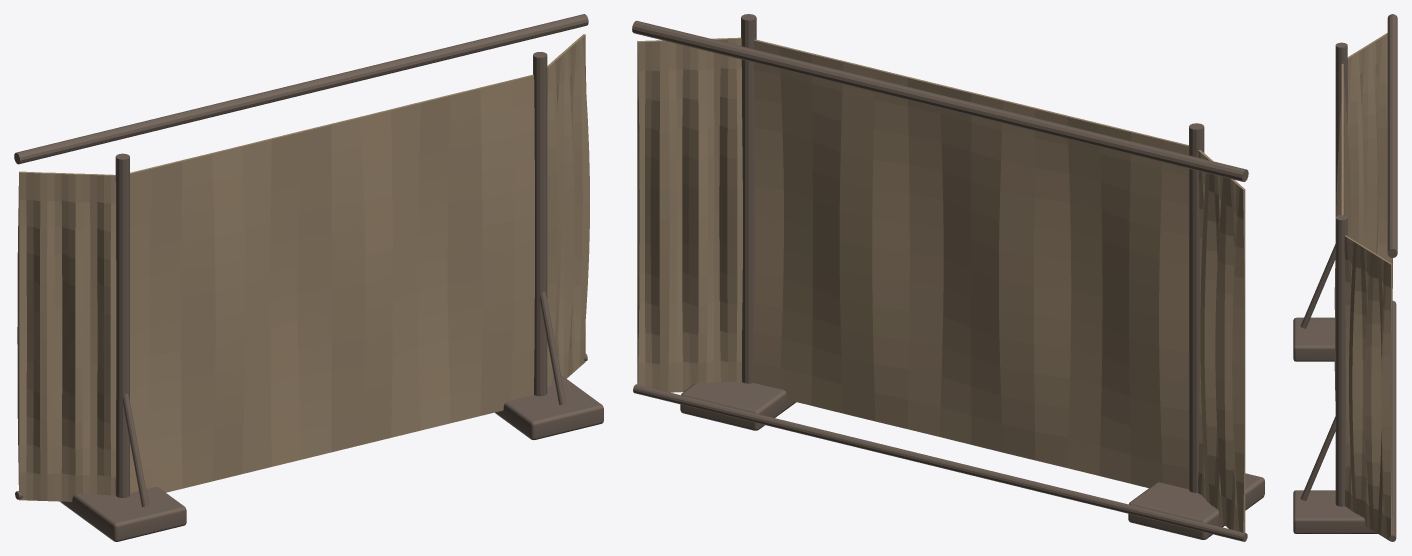
File: PopupShade_Deployed.fbx
3 views of the same model, side by side, from view 1: azimuth 30°, elevation 25°; view 2: azimuth 150°, elevation 25°; view 3: azimuth 270°, elevation 25° (orthographic). The views are drawn at different scales.
Parts seen in each view (by area): view 1: CentreCanvas, LeftReturnCanvas, RightReturnCanvas, TopSpreader, TelescopingUpright, TelescopingUpright.001, WeightedFoot, WeightedFoot.001, ShortFrameBrace, ShortFrameBrace.001; view 2: CentreCanvas, RightReturnCanvas, LeftReturnCanvas, TopSpreader, BottomHem, TelescopingUpright.001, TelescopingUpright, WeightedFoot, WeightedFoot.001; view 3: RightReturnCanvas, LeftReturnCanvas, TelescopingUpright.001, TopSpreader, WeightedFoot.001, WeightedFoot, CentreCanvas, BottomHem, TelescopingUpright, ShortFrameBrace.001, ShortFrameBrace.
Part boxes in pixels (left/top/right/bottom): CentreCanvas: left=130, top=74, right=534, bottom=492; LeftReturnCanvas: left=17, top=171, right=116, bottom=501; RightReturnCanvas: left=547, top=34, right=589, bottom=386; TopSpreader: left=14, top=14, right=588, bottom=164; TelescopingUpright: left=115, top=153, right=129, bottom=497; TelescopingUpright.001: left=533, top=52, right=547, bottom=396; WeightedFoot: left=60, top=487, right=186, bottom=541; WeightedFoot.001: left=495, top=375, right=603, bottom=439; ShortFrameBrace: left=123, top=393, right=148, bottom=506; ShortFrameBrace.001: left=540, top=291, right=566, bottom=404; CentreCanvas: left=753, top=39, right=1188, bottom=489; RightReturnCanvas: left=637, top=37, right=742, bottom=392; LeftReturnCanvas: left=1198, top=150, right=1245, bottom=532; TopSpreader: left=632, top=20, right=1248, bottom=181; BottomHem: left=633, top=384, right=1247, bottom=541; TelescopingUpright.001: left=741, top=14, right=756, bottom=383; TelescopingUpright: left=1189, top=123, right=1204, bottom=492; WeightedFoot: left=1128, top=473, right=1264, bottom=539; WeightedFoot.001: left=680, top=381, right=796, bottom=430; RightReturnCanvas: left=1344, top=235, right=1392, bottom=541; LeftReturnCanvas: left=1347, top=33, right=1392, bottom=301; TelescopingUpright.001: left=1335, top=215, right=1347, bottom=506; TopSpreader: left=1387, top=14, right=1397, bottom=257; WeightedFoot.001: left=1293, top=490, right=1377, bottom=533; WeightedFoot: left=1293, top=317, right=1335, bottom=361; CentreCanvas: left=1334, top=63, right=1350, bottom=400; BottomHem: left=1389, top=301, right=1396, bottom=541; TelescopingUpright: left=1335, top=42, right=1347, bottom=216; ShortFrameBrace.001: left=1300, top=416, right=1336, bottom=500; ShortFrameBrace: left=1300, top=244, right=1335, bottom=328.
Size of the model in its own units: 218 by 131 by 41.
